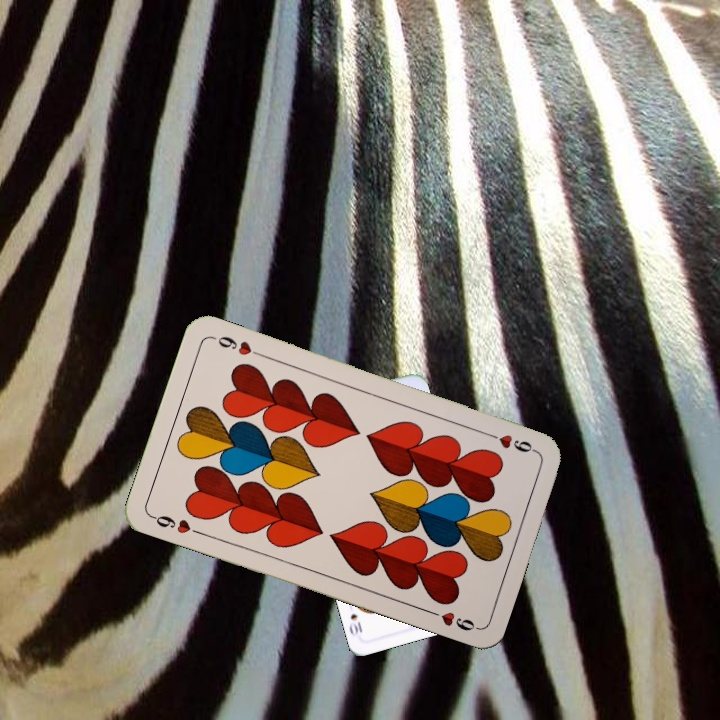H9: (482, 428, 539, 456), (147, 511, 205, 538)
